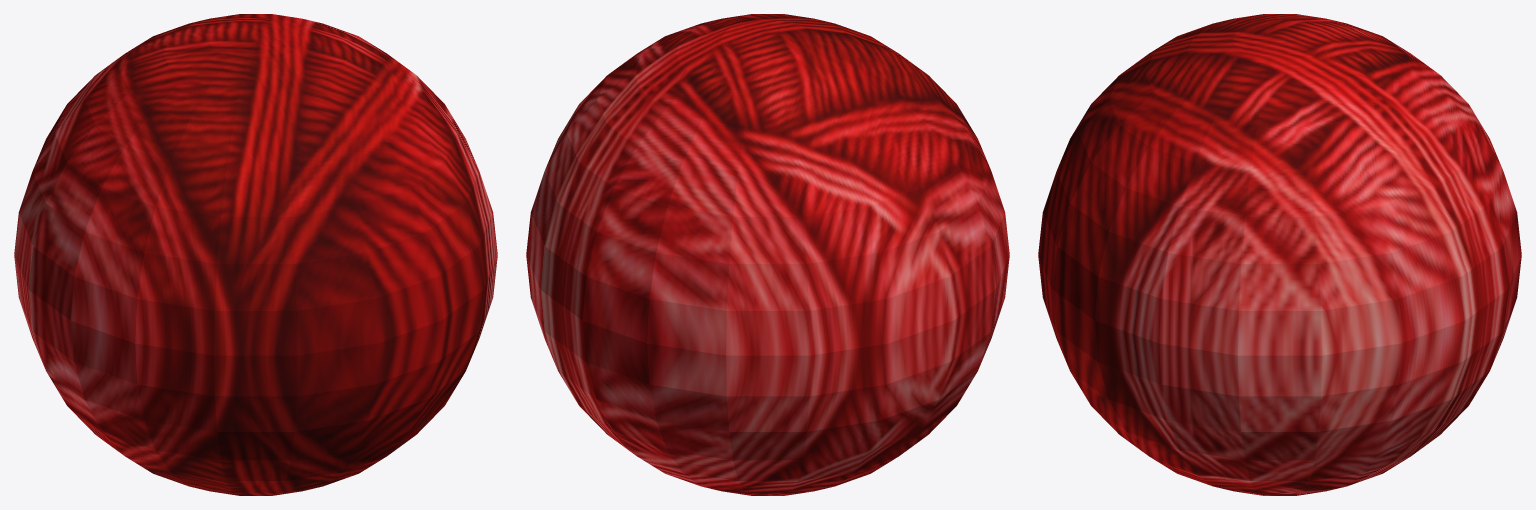
Rendered from Yarn ball.fbx.
3 renders of one model, left to right at view 1: azimuth 30°, elevation 25°; view 2: azimuth 150°, elevation 25°; view 3: azimuth 270°, elevation 25°, orthographic.
Visible parts, largest first — view 1: Yarn Ball; view 2: Yarn Ball; view 3: Yarn Ball.
Boxes of the visible parts, <box> form: Yarn Ball: <box>14,14,497,495</box>; Yarn Ball: <box>526,14,1009,495</box>; Yarn Ball: <box>1038,14,1521,495</box>.
Size of the model in its own units: 298 by 303 by 303.
1 material, 1 textured.
